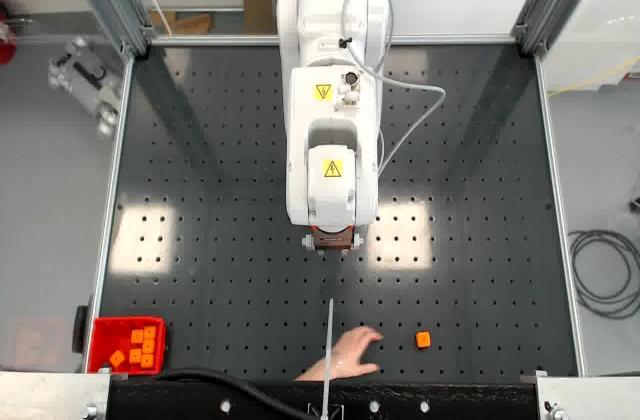cube: (416, 330, 432, 350)
